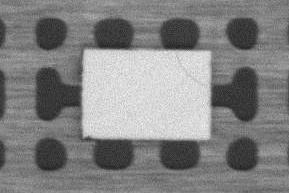DIE_CRACK: (174, 52, 208, 86)
